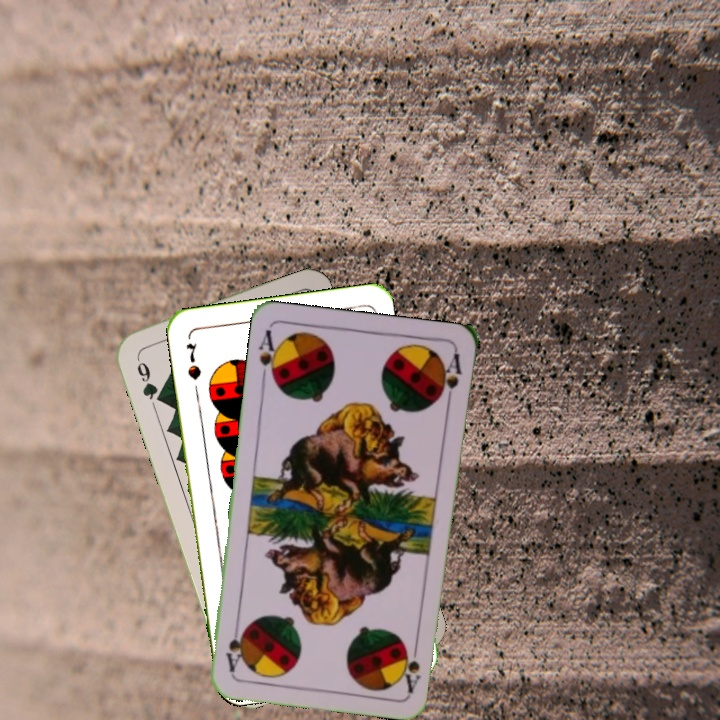G9: (132, 351, 166, 406)
S7: (182, 339, 204, 382)
SA: (255, 326, 283, 386), (402, 636, 423, 695)
